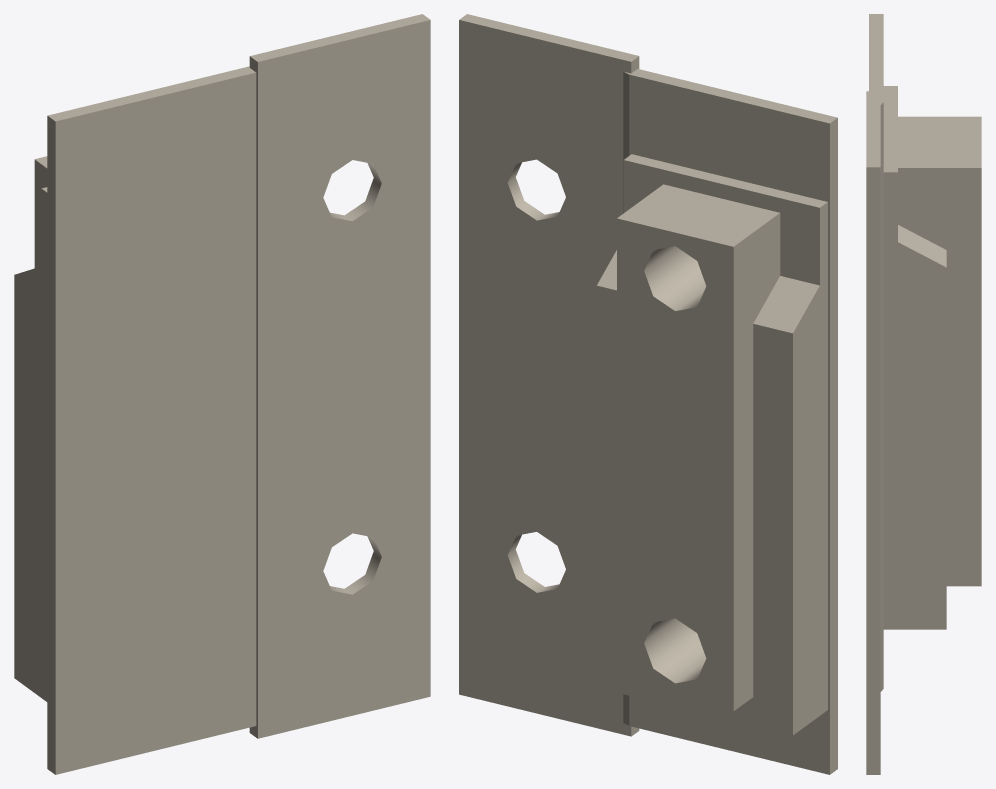
3 renders of one model, left to right at view 1: azimuth 30°, elevation 25°; view 2: azimuth 150°, elevation 25°; view 3: azimuth 270°, elevation 25°, orthographic. The views are drawn at different scales.
Visible parts, largest first — view 1: bau0018911312-1, bau0027282328-1; view 2: bau0018911312-1, bau0027282328-1; view 3: bau0027282328-1, bau0018911312-1.
Boxes of the visible parts, x1,y1,x2,y2 form: bau0018911312-1: [47, 14, 430, 774]; bau0027282328-1: [14, 156, 47, 701]; bau0018911312-1: [459, 14, 837, 774]; bau0027282328-1: [596, 154, 827, 735]; bau0027282328-1: [883, 86, 981, 629]; bau0018911312-1: [866, 14, 883, 774].
Bounding box in the file's own units: 33.5 × 58 × 10.
